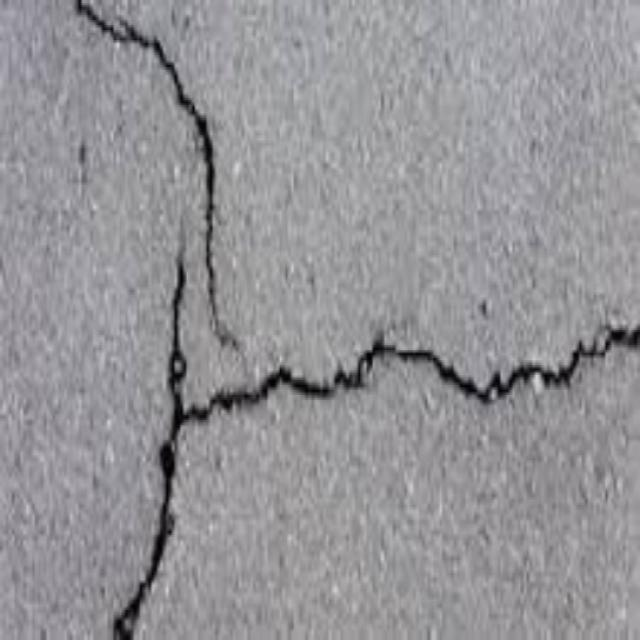Diagonal: (55, 3, 202, 125)
Longitudinal: (204, 136, 254, 361), (131, 494, 186, 606), (160, 217, 198, 336)
Radial: (147, 394, 251, 486)
Transverse: (430, 322, 590, 410), (261, 367, 404, 424)
Turtle-shell patterned: (593, 316, 637, 363), (157, 339, 196, 387), (109, 608, 148, 640)
